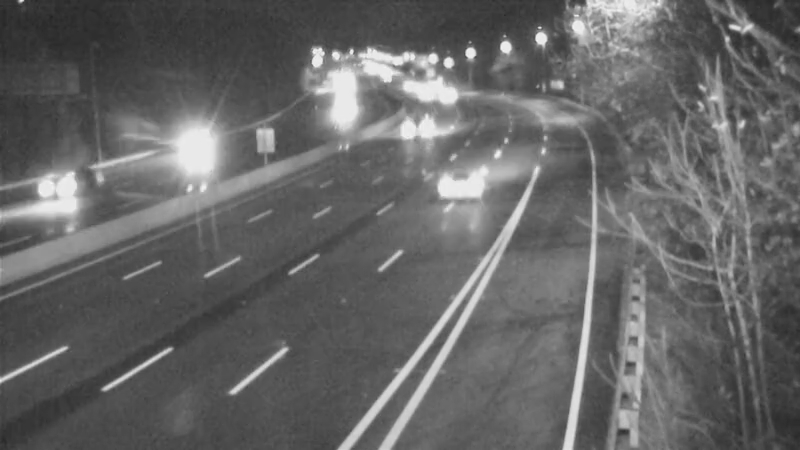vehicle: (430, 145, 510, 225), (25, 147, 105, 227), (168, 110, 248, 190), (381, 58, 431, 108), (404, 70, 454, 120), (426, 69, 476, 119), (388, 105, 438, 155), (317, 76, 367, 126)
